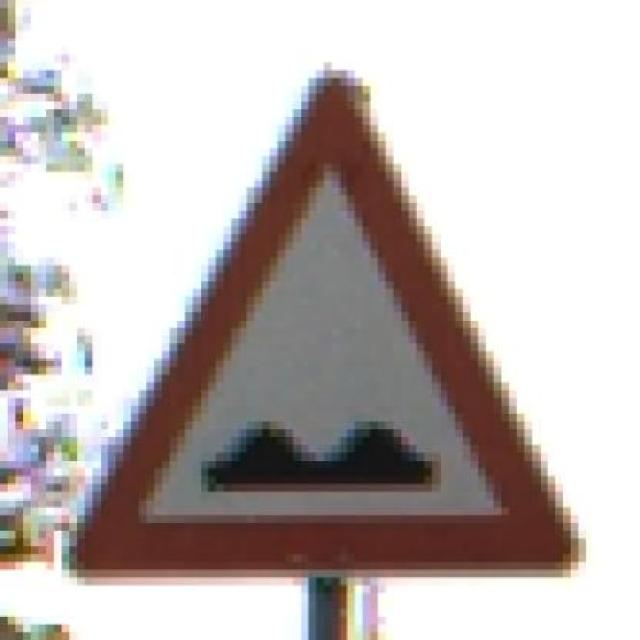Uneven Road: (69, 62, 594, 586)
